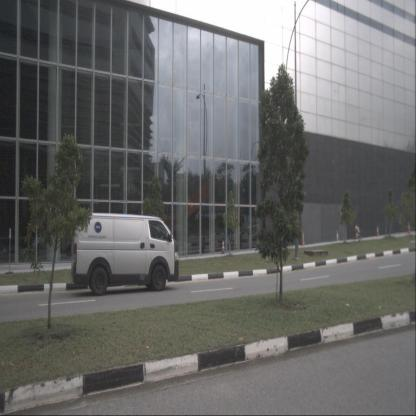cone: (221, 239, 225, 254), (301, 231, 305, 246), (407, 223, 411, 233), (336, 230, 339, 242), (376, 226, 379, 236)
